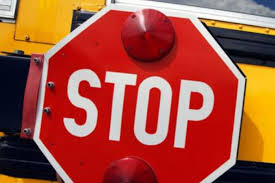SS: (47, 10, 235, 183)
